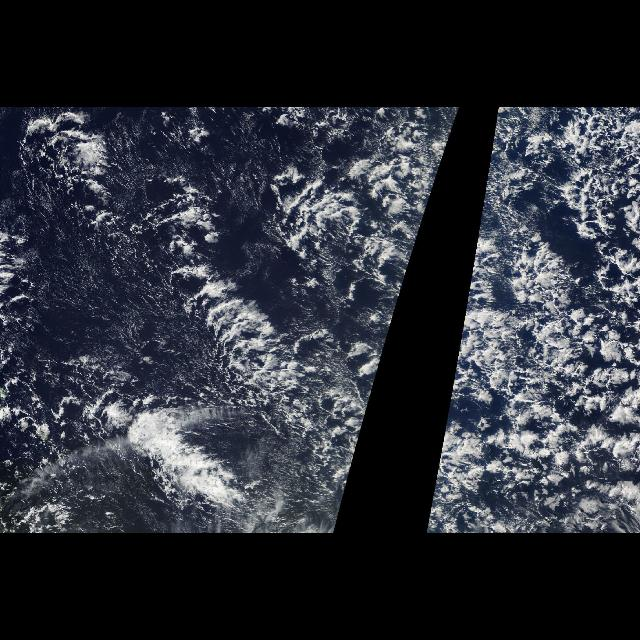Fish: (150, 193, 380, 473)
Flower: (494, 293, 640, 503)
Gravel: (490, 108, 640, 530), (264, 118, 456, 312)
Sugar: (12, 228, 166, 382)
